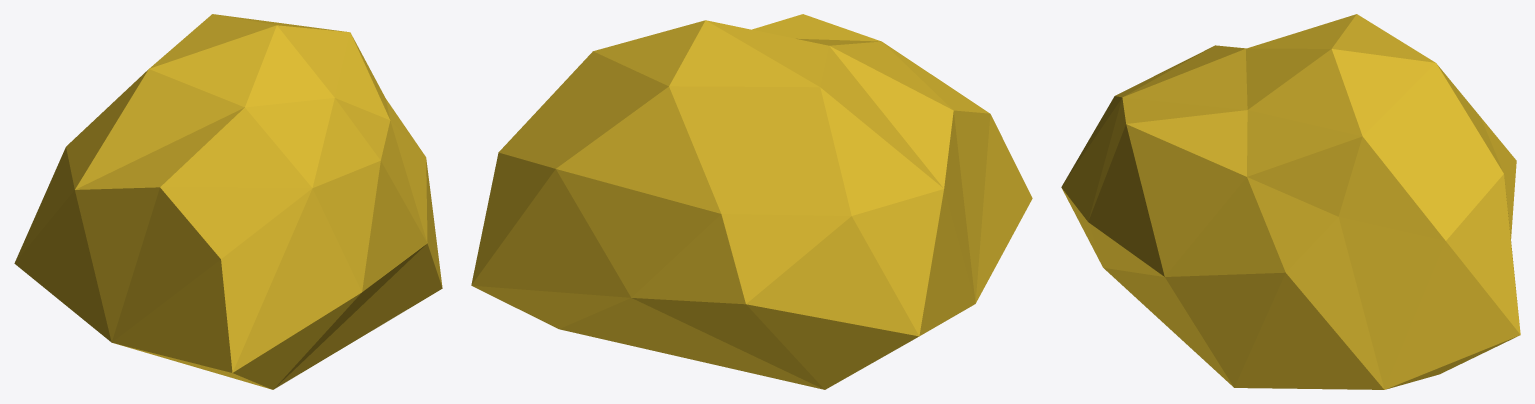
Rendered from stone04.fbx.
3 renders of one model, left to right at view 1: azimuth 30°, elevation 25°; view 2: azimuth 150°, elevation 25°; view 3: azimuth 270°, elevation 25°, orthographic. The views are drawn at different scales.
Parts seen in each view (by area): view 1: Icosphere; view 2: Icosphere; view 3: Icosphere.
Boxes of the visible parts, x1=… form: Icosphere: x1=14, y1=14, x2=442, y2=389; Icosphere: x1=471, y1=14, x2=1032, y2=389; Icosphere: x1=1061, y1=14, x2=1520, y2=389.
Size of the model in its own units: 1.19 by 0.7816 by 1.09.
